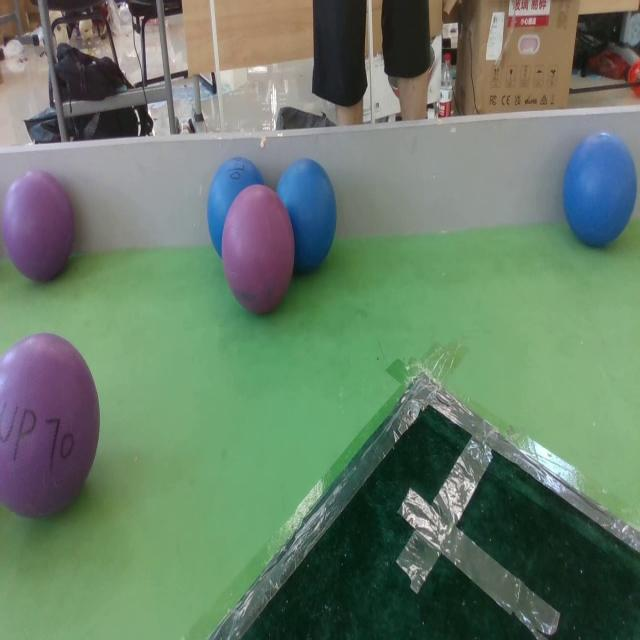blue: (562, 132, 638, 249), (277, 160, 335, 276), (207, 160, 265, 260)
invalid: (0, 332, 97, 538), (224, 186, 294, 310), (4, 170, 74, 281)
